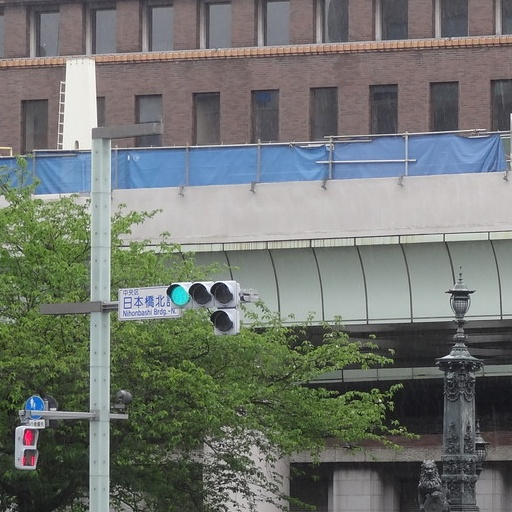Pedestrian_Signal_Red: (10, 413, 43, 474)
Traffic_Signal_Blue: (167, 275, 252, 312)
